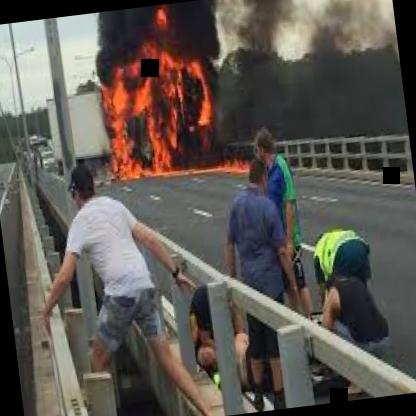fire: (91, 5, 226, 190)
